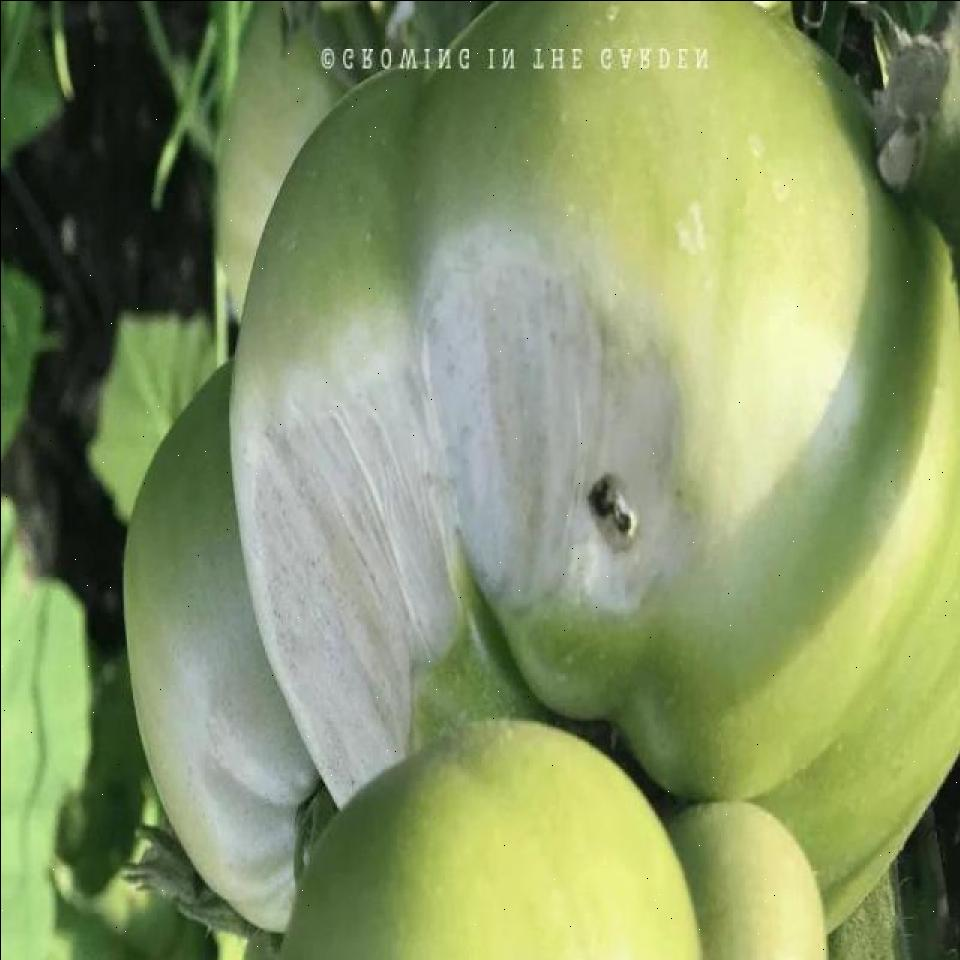Sunscald: (232, 216, 710, 832), (172, 522, 358, 939)
